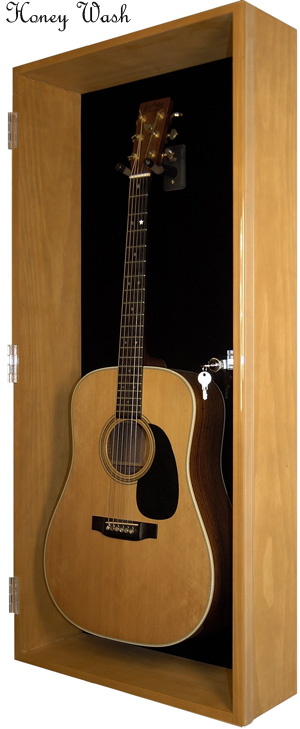guitar: (45, 97, 232, 649)
